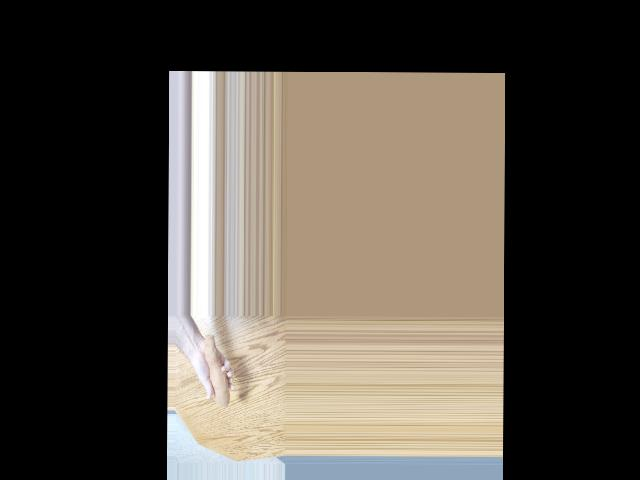sweet_potato: (203, 336, 230, 408)
